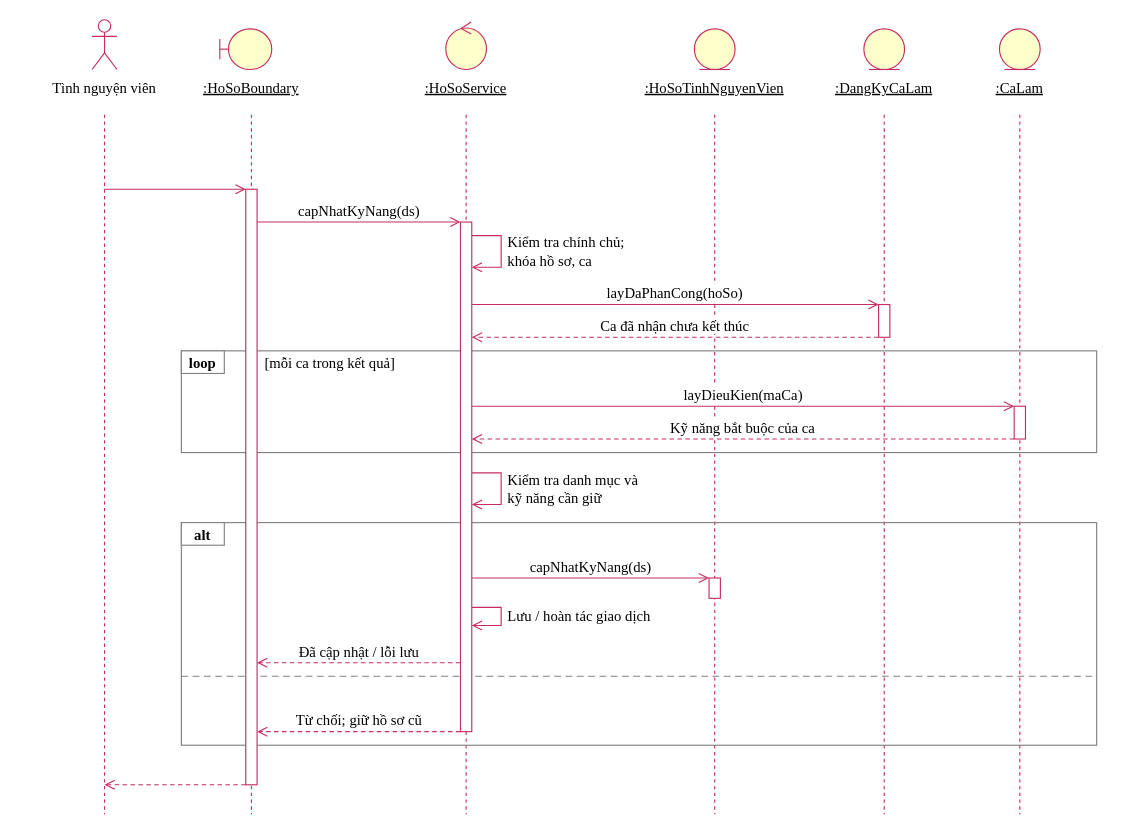
This 1123x835 diagram has some shape labels left out. The box of each missing label's shape, as (x1, y1, x2, y2) in pixels:
[hợp lệ]: (264, 525, 330, 544)
[không hợp lệ]: (264, 679, 374, 697)
Chọn kỹ năng, nhấn Lưu: (123, 151, 226, 185)
Hiển thị kết quả: (112, 764, 237, 781)
